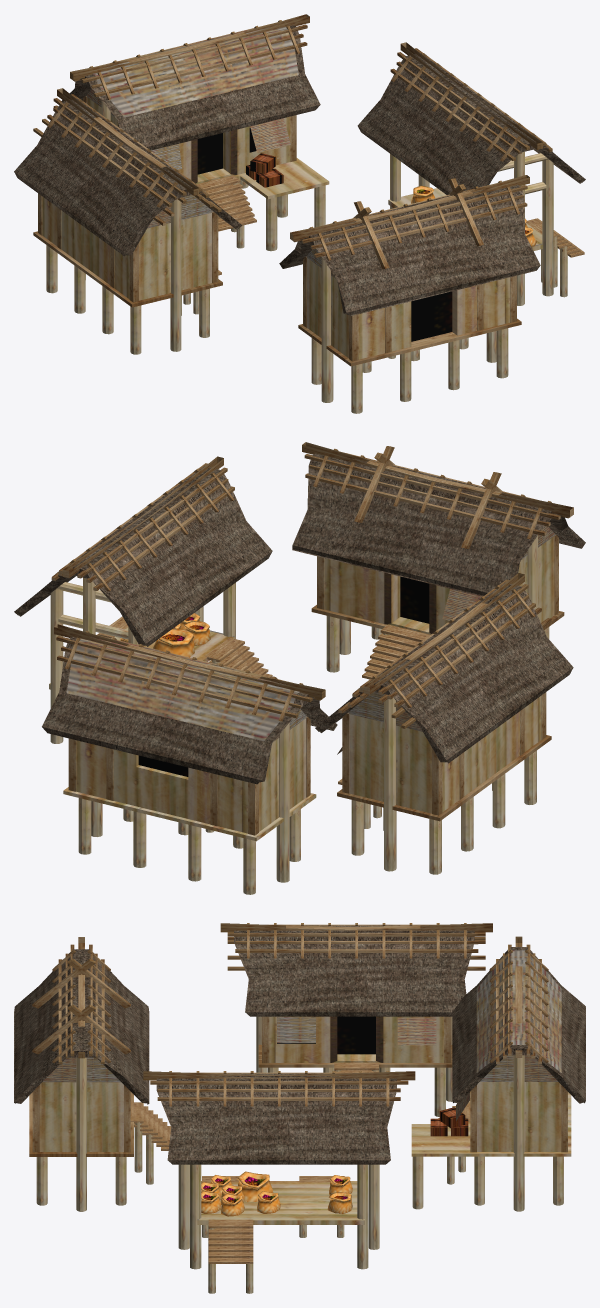
File: yayoi_market.dae
The picture shows the model from 3 angles, top to bottom: view 1: azimuth 30°, elevation 25°; view 2: azimuth 150°, elevation 25°; view 3: azimuth 270°, elevation 25°; orthographic projection. The views are drawn at different scales.
Parts seen in each view (by area): view 1: MARKET; view 2: MARKET; view 3: MARKET.
Part boxes in pixels (x1,y1,x2,y2): MARKET: (14,14,585,413); MARKET: (14,442,585,894); MARKET: (14,923,585,1293).
Size of the model in its own units: 28.78 by 32.53 by 12.74.
Materials: 1 (1 with a texture image).
